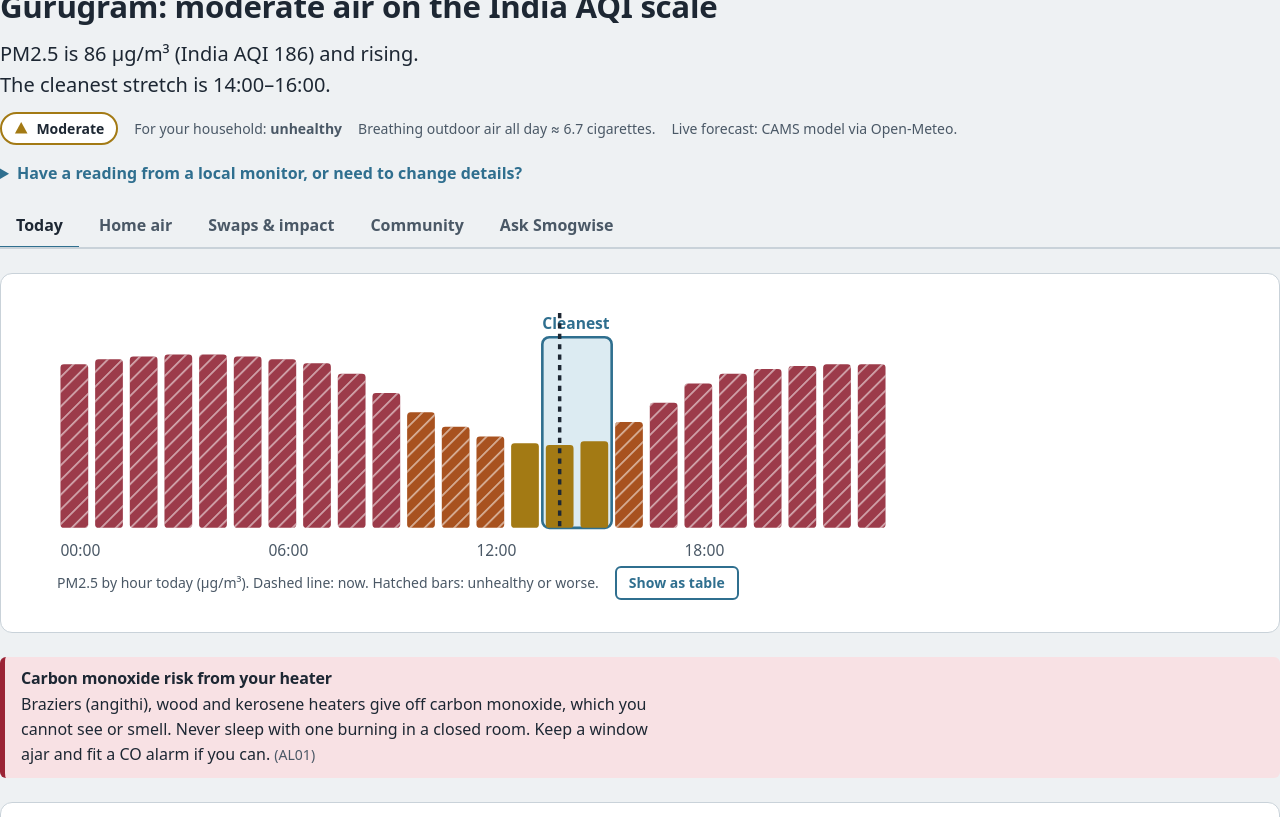
Test: PlanView — Community and Ask (lazy) › scales impact with households and prints a notice
Later steps or results of the test are not shown.
Click the tab "Community".
click(417, 227)  # box [354,205,480,249]
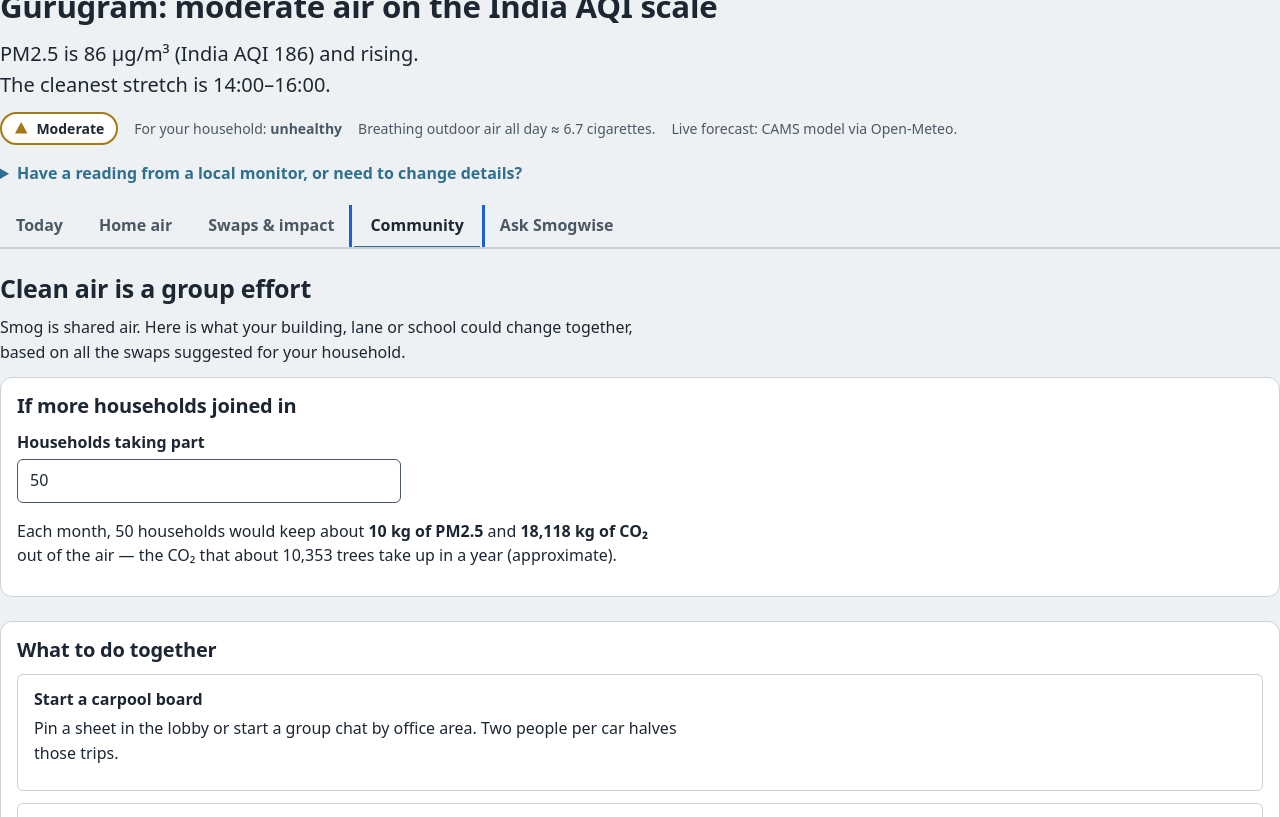
Expected: the text "all the swaps suggested" is shown, [73,341,401,363]
Replace the text in the number field labelled "Households taking part" with "120" at (209, 481), box [17,459,401,503]
(page scrolled)
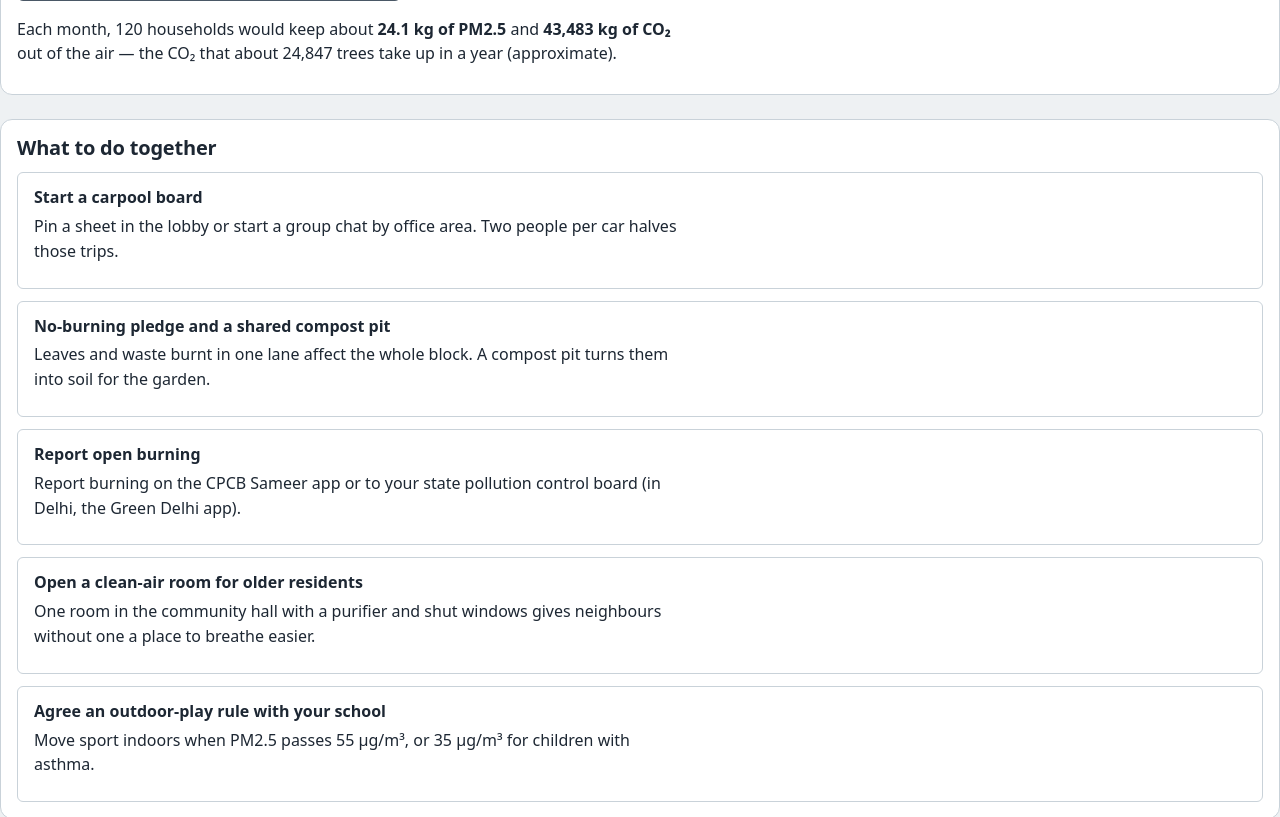
Expected: the heading "Start a carpool board" is shown, [34,186,202,208]
Expected: the text "Each month, 120 households" is shown, [17,17,676,66]
